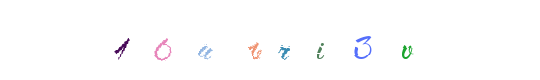1: (82, 0, 162, 80)
3: (322, 0, 402, 80)
6: (140, 0, 220, 80)
I: (246, 0, 326, 80)
R: (244, 0, 324, 80)
U: (214, 0, 294, 80)
V: (337, 0, 417, 80)
Z: (230, 0, 310, 80)
